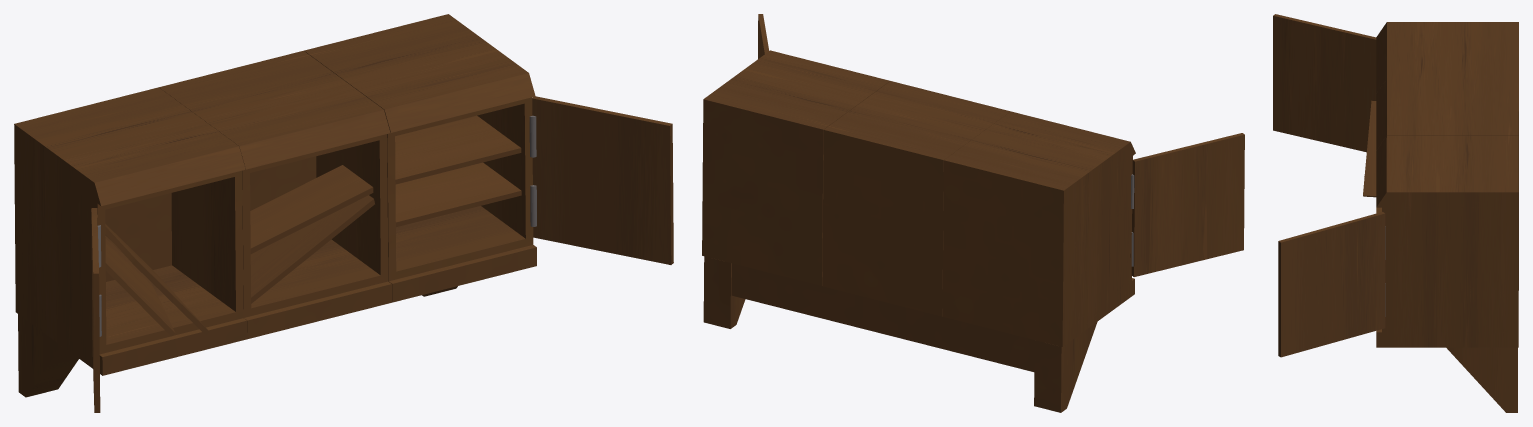
Rendered from cup board_ver1.fbx.
The picture shows the model from 3 angles, left to right: view 1: azimuth 30°, elevation 25°; view 2: azimuth 150°, elevation 25°; view 3: azimuth 270°, elevation 25°; orthographic projection. The views are drawn at different scales.
Visible parts, largest first — view 1: Cube.009; view 2: Cube.009; view 3: Cube.009.
Boxes of the visible parts, box(x1,y1,x2,y2) form: Cube.009: box(14, 14, 673, 412); Cube.009: box(702, 14, 1244, 412); Cube.009: box(1273, 14, 1518, 412).
Size of the model in its own units: 560 by 250 by 249.
